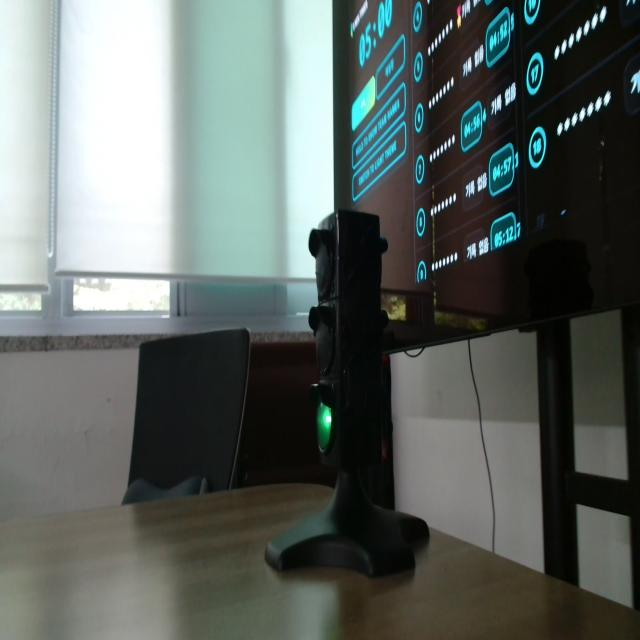green_light: (317, 403, 331, 452)
